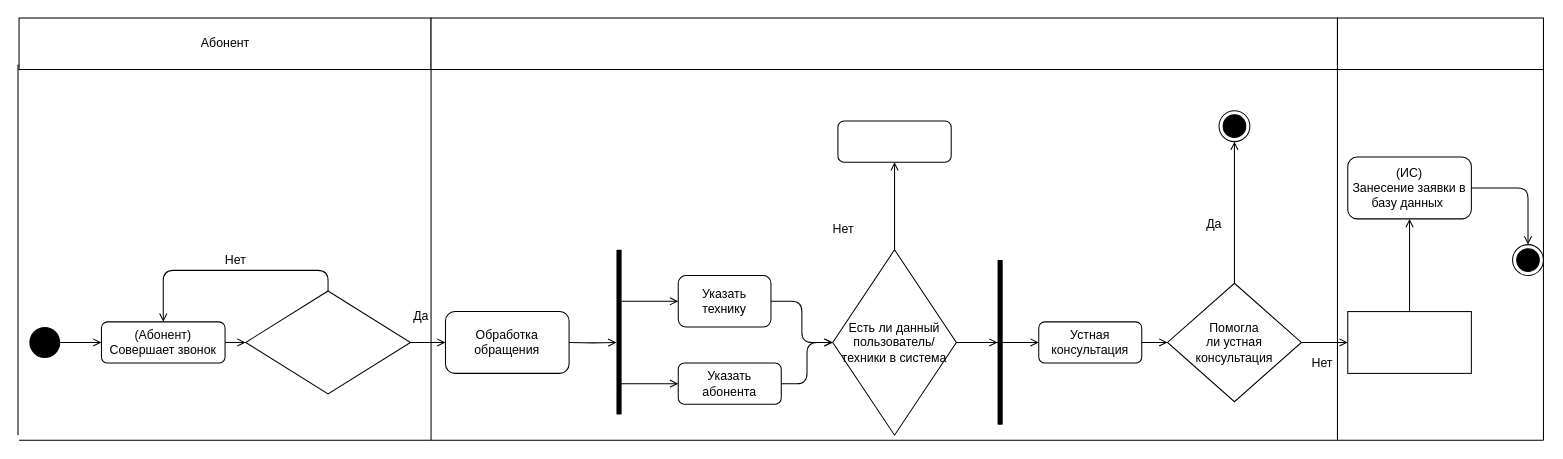
Some shapes in this 1563 by 459 pixel diagram are drawn without their labels. Here are the shapes that lost their labels. From the top down, the centre of each, then its label:
At point 883,43: "Оператор".
At point 1439,43: "ИС".
At point 894,141: "Регистрирует".
At point 327,342: "Сформулипрована ли проблема".
At point 1409,342: "Заявка".
